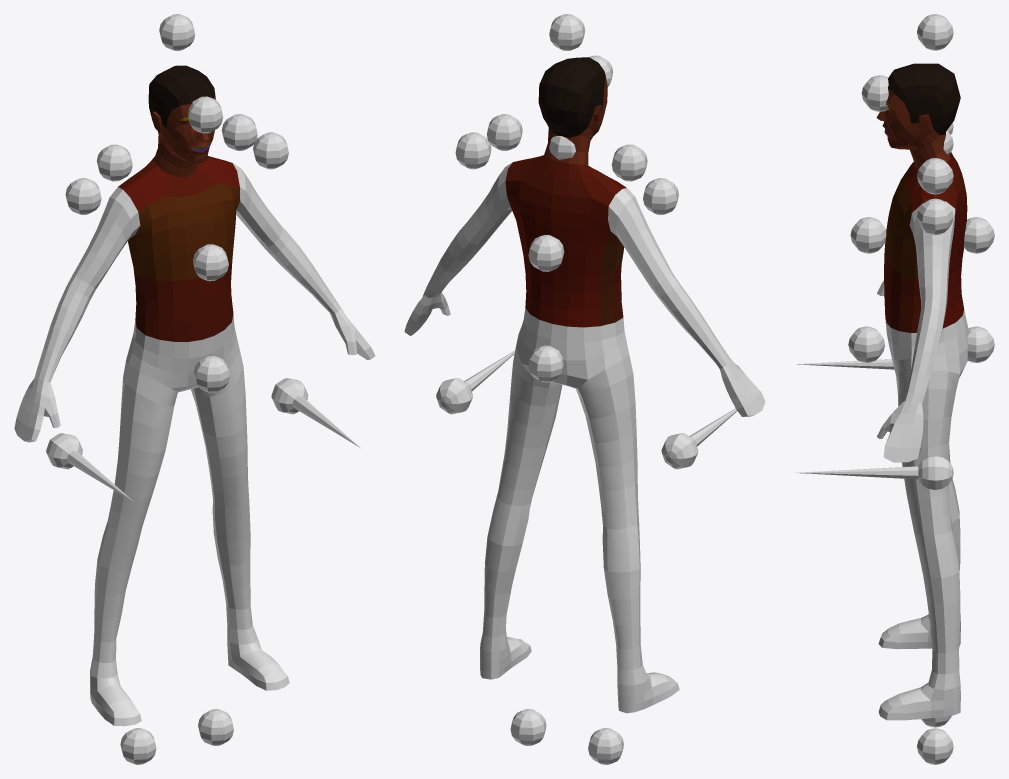
The model's file is LayeredClothingTemplate_body.fbx.
The picture shows the model from 3 angles, left to right: view 1: azimuth 30°, elevation 25°; view 2: azimuth 150°, elevation 25°; view 3: azimuth 270°, elevation 25°; orthographic projection.
Parts seen in each view (by area): view 1: UpperTorso_OuterCage, RightUpperLeg_OuterCage, LeftUpperLeg_OuterCage, Head_OuterCage, RightLowerLeg_OuterCage, LeftLowerLeg_OuterCage, LowerTorso_OuterCage, RightUpperArm_OuterCage, RightLowerArm_OuterCage, LeftLowerArm_OuterCage, LeftFoot_OuterCage, RightHand_OuterCage (+15 smaller); view 2: UpperTorso_OuterCage, RightUpperLeg_OuterCage, LeftUpperLeg_OuterCage, Head_OuterCage, RightLowerLeg_OuterCage, LowerTorso_OuterCage, LeftLowerLeg_OuterCage, RightUpperArm_OuterCage, RightLowerArm_OuterCage, LeftUpperArm_OuterCage, RightFoot_OuterCage, LeftLowerArm_OuterCage (+14 smaller); view 3: UpperTorso_OuterCage, Head_OuterCage, LeftLowerLeg_OuterCage, LeftUpperLeg_OuterCage, LowerTorso_OuterCage, LeftUpperArm_OuterCage, LeftLowerArm_OuterCage, LeftFoot_OuterCage, LeftHand_OuterCage, LeftGrip_Att, RightFoot_OuterCage, Hat_Att (+10 smaller).
Part boxes in pixels (bbox=[...]): UpperTorso_OuterCage: bbox=[118, 156, 240, 341]; RightUpperLeg_OuterCage: bbox=[107, 360, 177, 533]; LeftUpperLeg_OuterCage: bbox=[191, 348, 248, 508]; Head_OuterCage: bbox=[148, 65, 215, 177]; RightLowerLeg_OuterCage: bbox=[90, 521, 141, 678]; LeftLowerLeg_OuterCage: bbox=[212, 499, 257, 644]; LowerTorso_OuterCage: bbox=[126, 314, 239, 392]; RightUpperArm_OuterCage: bbox=[73, 187, 140, 288]; RightLowerArm_OuterCage: bbox=[35, 275, 95, 382]; LeftLowerArm_OuterCage: bbox=[263, 227, 340, 313]; LeftFoot_OuterCage: bbox=[227, 639, 289, 690]; RightHand_OuterCage: bbox=[14, 377, 60, 442]; UpperTorso_OuterCage: bbox=[505, 155, 626, 327]; RightUpperLeg_OuterCage: bbox=[576, 354, 638, 529]; LeftUpperLeg_OuterCage: bbox=[497, 339, 562, 505]; Head_OuterCage: bbox=[538, 57, 607, 165]; RightLowerLeg_OuterCage: bbox=[602, 522, 647, 685]; LowerTorso_OuterCage: bbox=[516, 308, 629, 388]; LeftLowerLeg_OuterCage: bbox=[480, 491, 531, 652]; RightUpperArm_OuterCage: bbox=[608, 188, 672, 287]; RightLowerArm_OuterCage: bbox=[651, 273, 730, 368]; LeftUpperArm_OuterCage: bbox=[462, 162, 512, 245]; RightFoot_OuterCage: bbox=[617, 672, 679, 713]; LeftLowerArm_OuterCage: bbox=[424, 225, 483, 297]; UpperTorso_OuterCage: bbox=[884, 152, 967, 332]; Head_OuterCage: bbox=[876, 63, 960, 169]; LeftLowerLeg_OuterCage: bbox=[914, 531, 960, 690]; LeftUpperLeg_OuterCage: bbox=[896, 370, 959, 535]; LowerTorso_OuterCage: bbox=[885, 310, 968, 377]; LeftUpperArm_OuterCage: bbox=[909, 201, 955, 301]; LeftLowerArm_OuterCage: bbox=[904, 297, 946, 403]; LeftFoot_OuterCage: bbox=[878, 682, 960, 720]; LeftHand_OuterCage: bbox=[876, 401, 923, 462]; LeftGrip_Att: bbox=[795, 455, 953, 489]; RightFoot_OuterCage: bbox=[878, 614, 960, 649]; Hat_Att: bbox=[917, 14, 953, 50].
Size of the model in its own units: 3.23 by 6.55 by 1.63.
